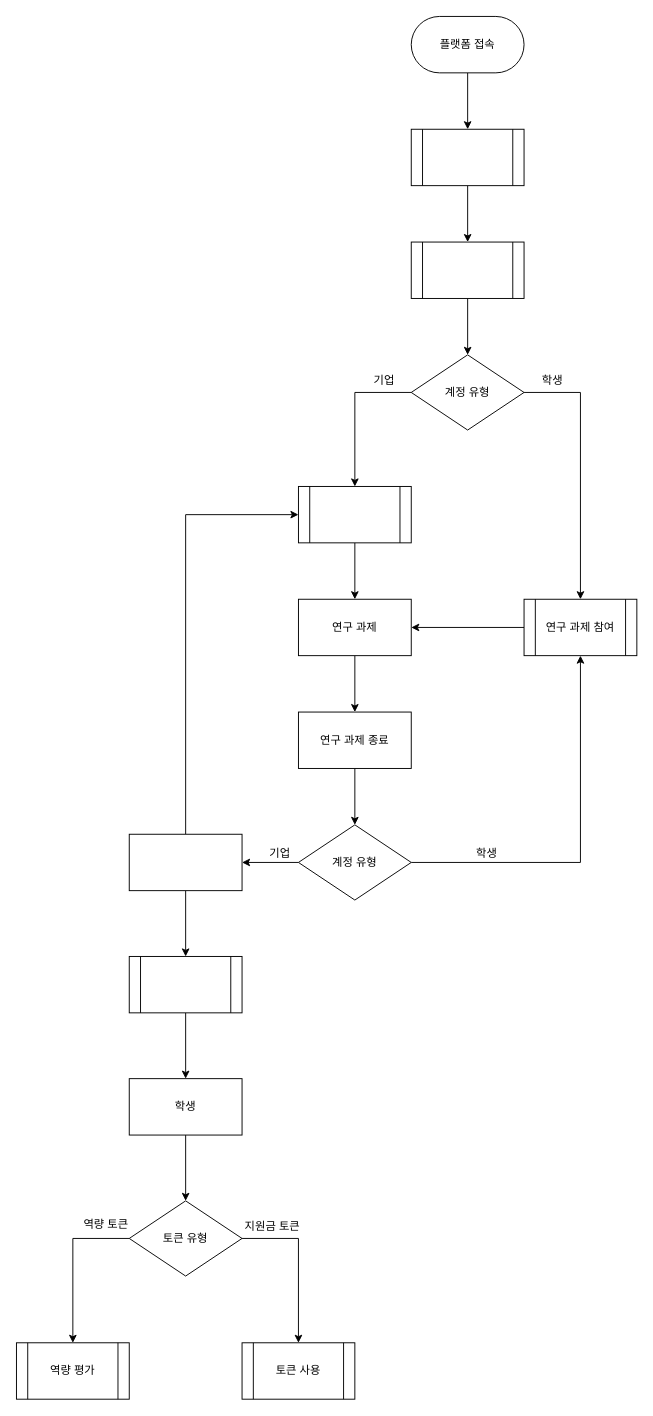
Some shapes in this 653 by 1416 pixel diagram are drawn without their labels. The box of each missing label's shape, as (x1, y1, x2, y2) in pixels:
로그인: (410, 241, 524, 298)
연구 과제 생성: (298, 486, 411, 543)
우수 학생 (팀, 개인) 선정: (128, 833, 242, 891)
토큰 지급: (128, 956, 242, 1013)
회원가입: (410, 128, 524, 186)
